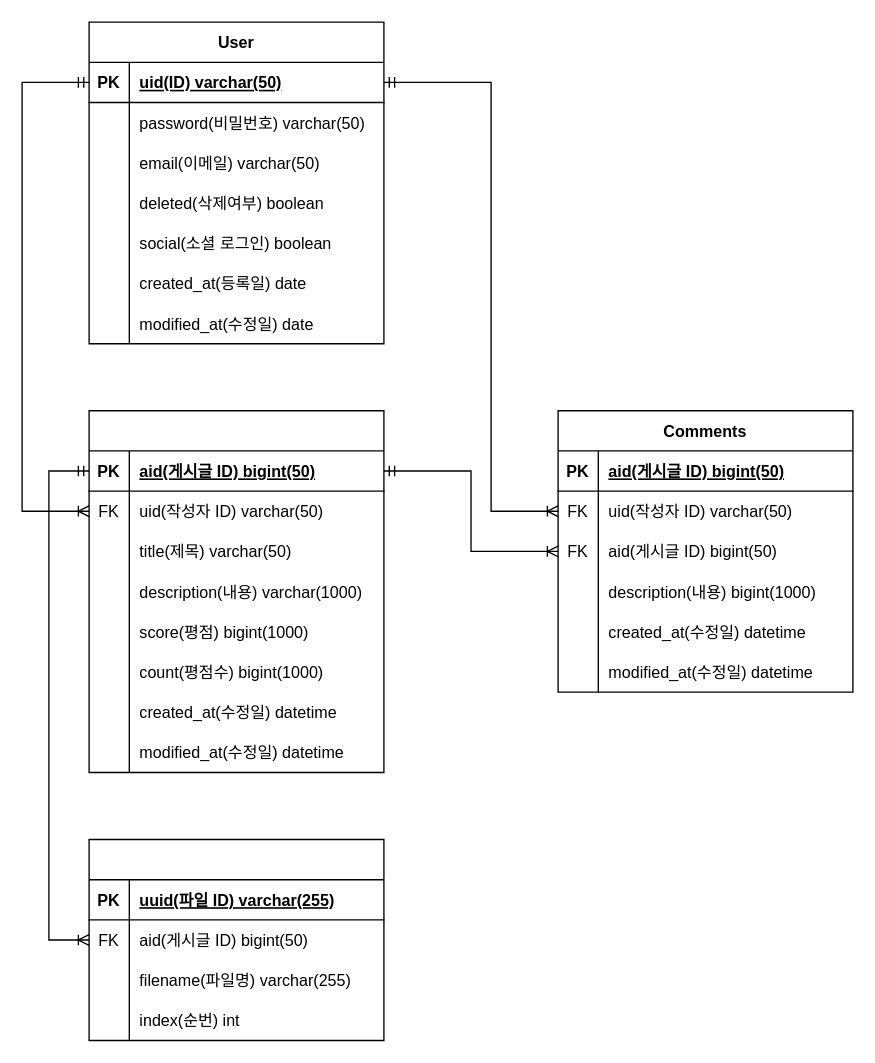
Image size: 875x1063. Some labels were removed from this diagram. Here are the shapes that lost their labels. From the top down, the box of each, then its label:
(88, 409, 384, 773): Article
(88, 838, 384, 1041): Image
